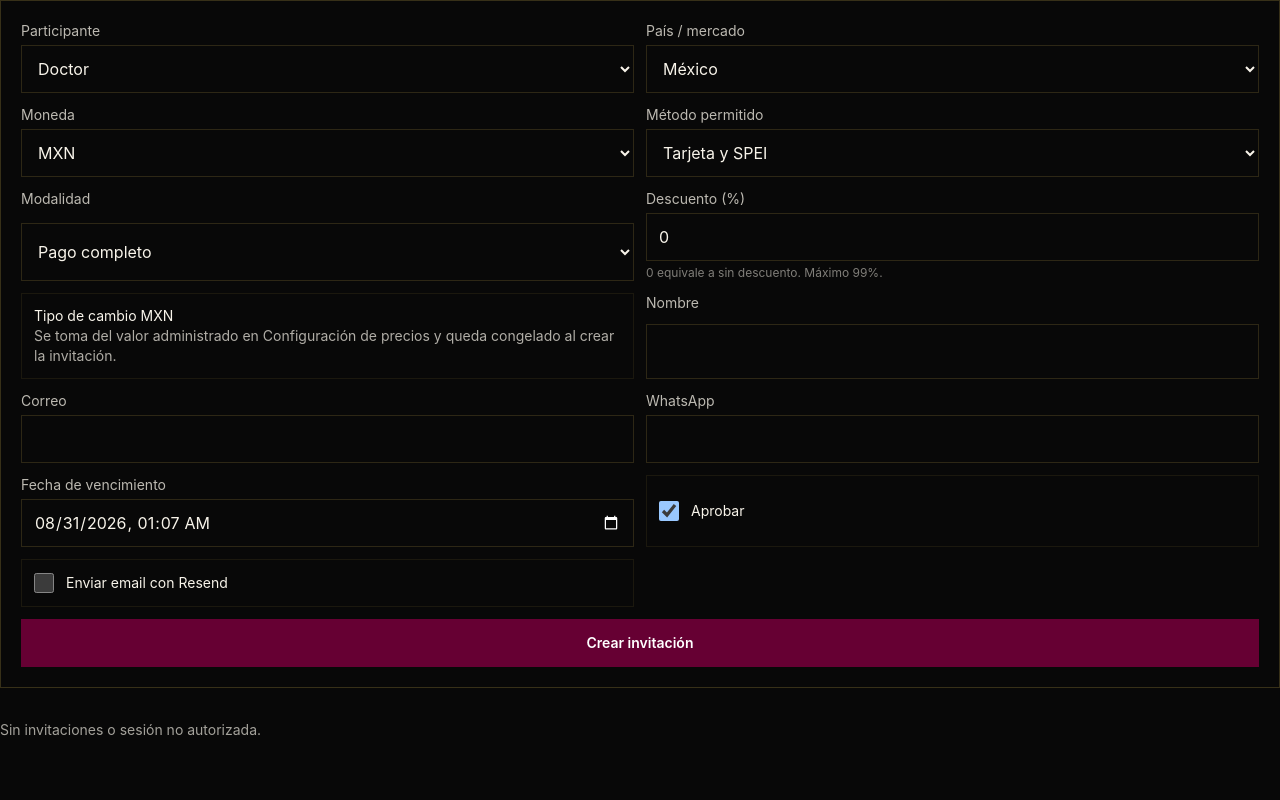
Test case: admin components › muestra validación visible y no bloquea por required invisible
Click the button "Crear invitación" at (640, 643), box [21,619,1259,667]
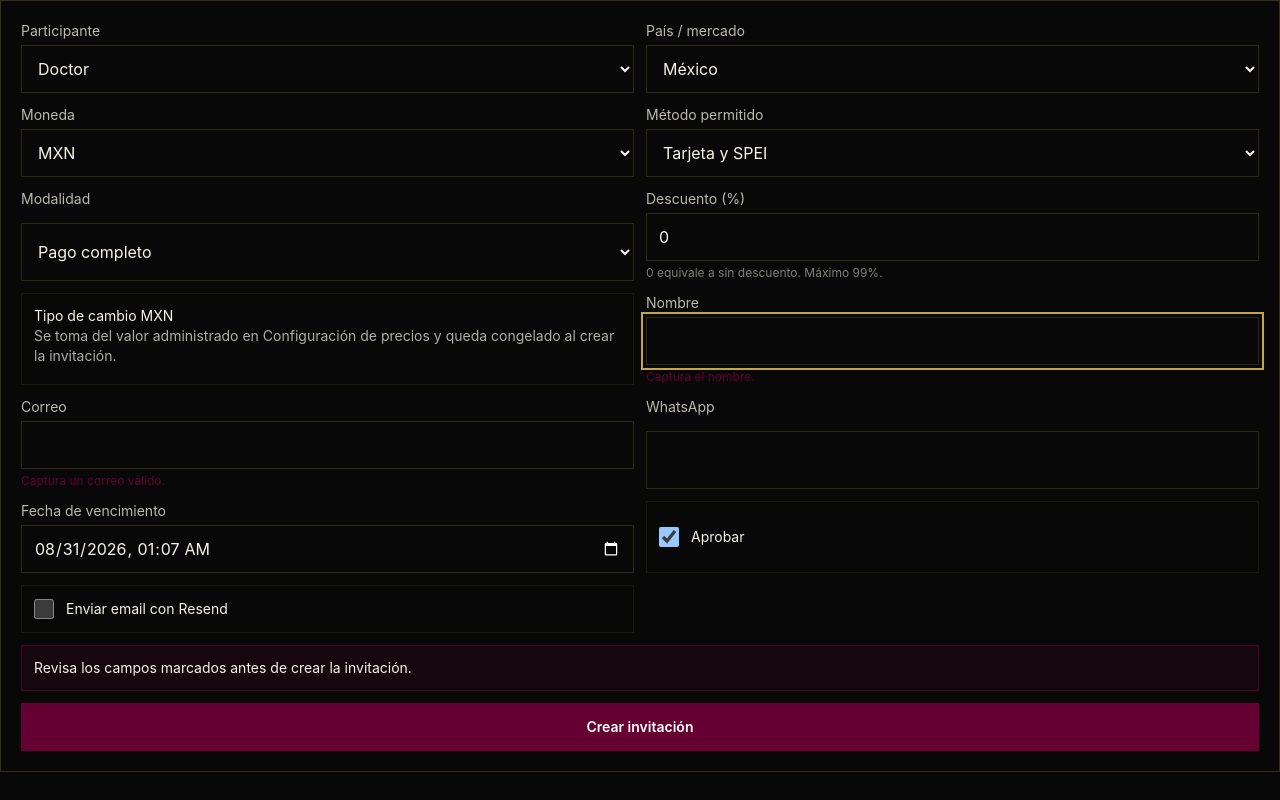
Expected: the text "Captura el nombre." is shown, [646,369,755,384]
Expected: the text "Captura un correo válido." is shown, [21,473,165,488]
